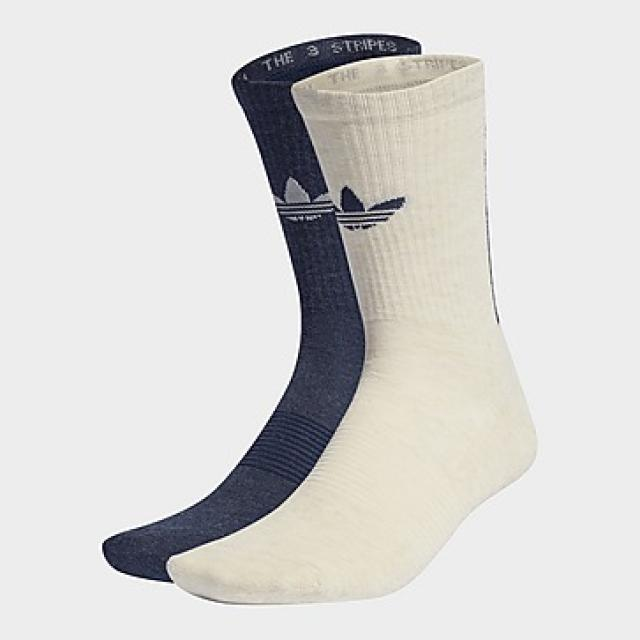sock: (164, 49, 538, 605)
